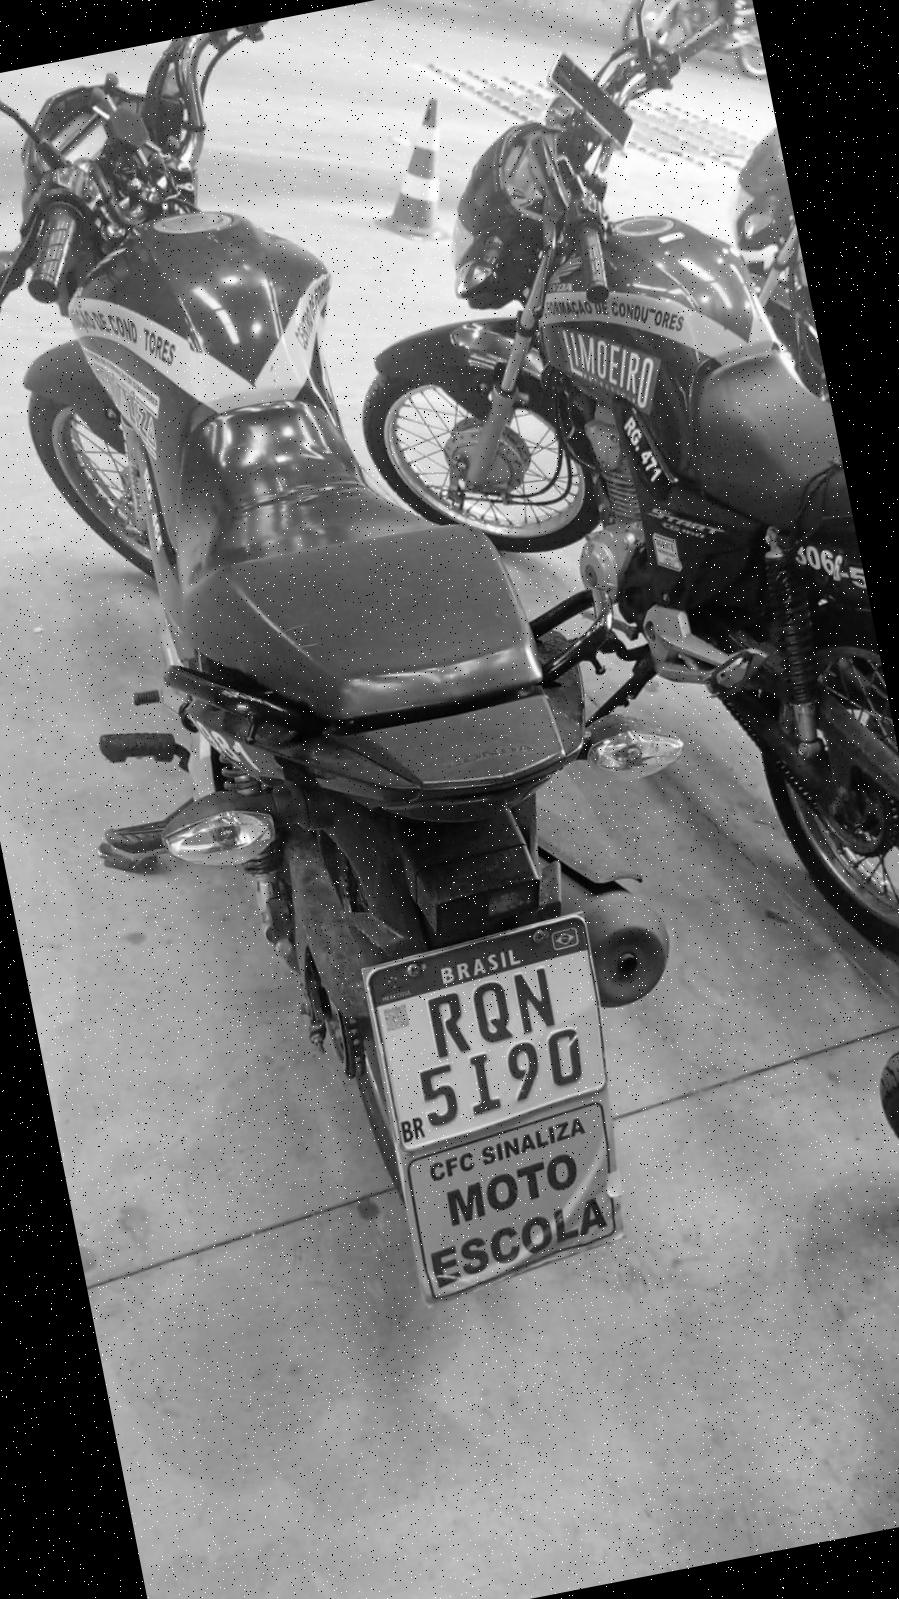placa_mercosul: (365, 903, 606, 1158)
